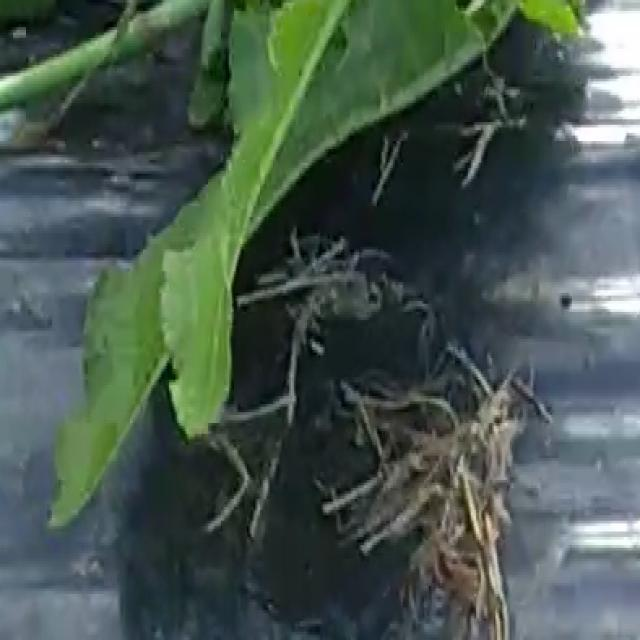organic waste: (4, 0, 578, 548)
